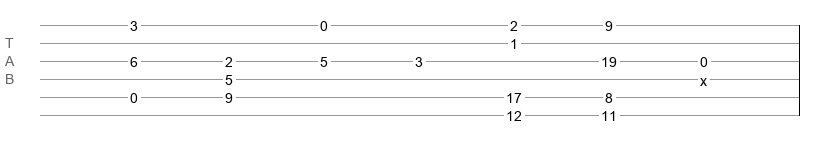0: (130, 90, 138, 100), (320, 18, 328, 28), (700, 54, 708, 64)
1: (510, 36, 518, 46)
11: (601, 108, 617, 118)
12: (506, 108, 522, 118)
17: (506, 90, 522, 100)
19: (601, 54, 617, 64)
2: (225, 54, 233, 64), (510, 18, 518, 28)
3: (130, 18, 138, 28), (415, 54, 423, 64)
5: (225, 72, 233, 82), (320, 54, 328, 64)
6: (130, 54, 138, 64)
8: (605, 90, 613, 100)
9: (225, 90, 233, 100), (605, 18, 613, 28)
x: (700, 73, 707, 81)
